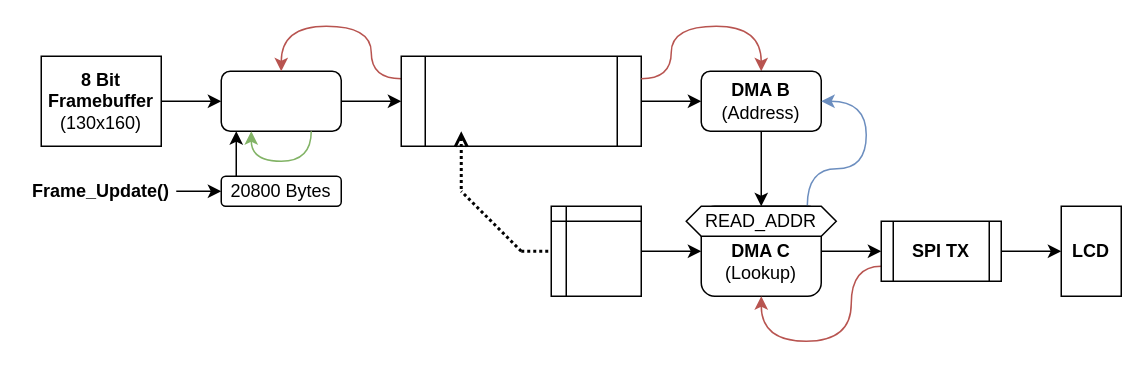
This 1148x368 diagram has some shape labels left out. The shapes that lost their labels are listed below. From the top down, each one's centre as x and y in pixels, then its label:
At (x=280, y=100): "DMA A (Data)".
At (x=520, y=100): "PIO State Machine ADDR + FB_OFFSET".
At (x=595, y=250): "16 Bit LUT".
